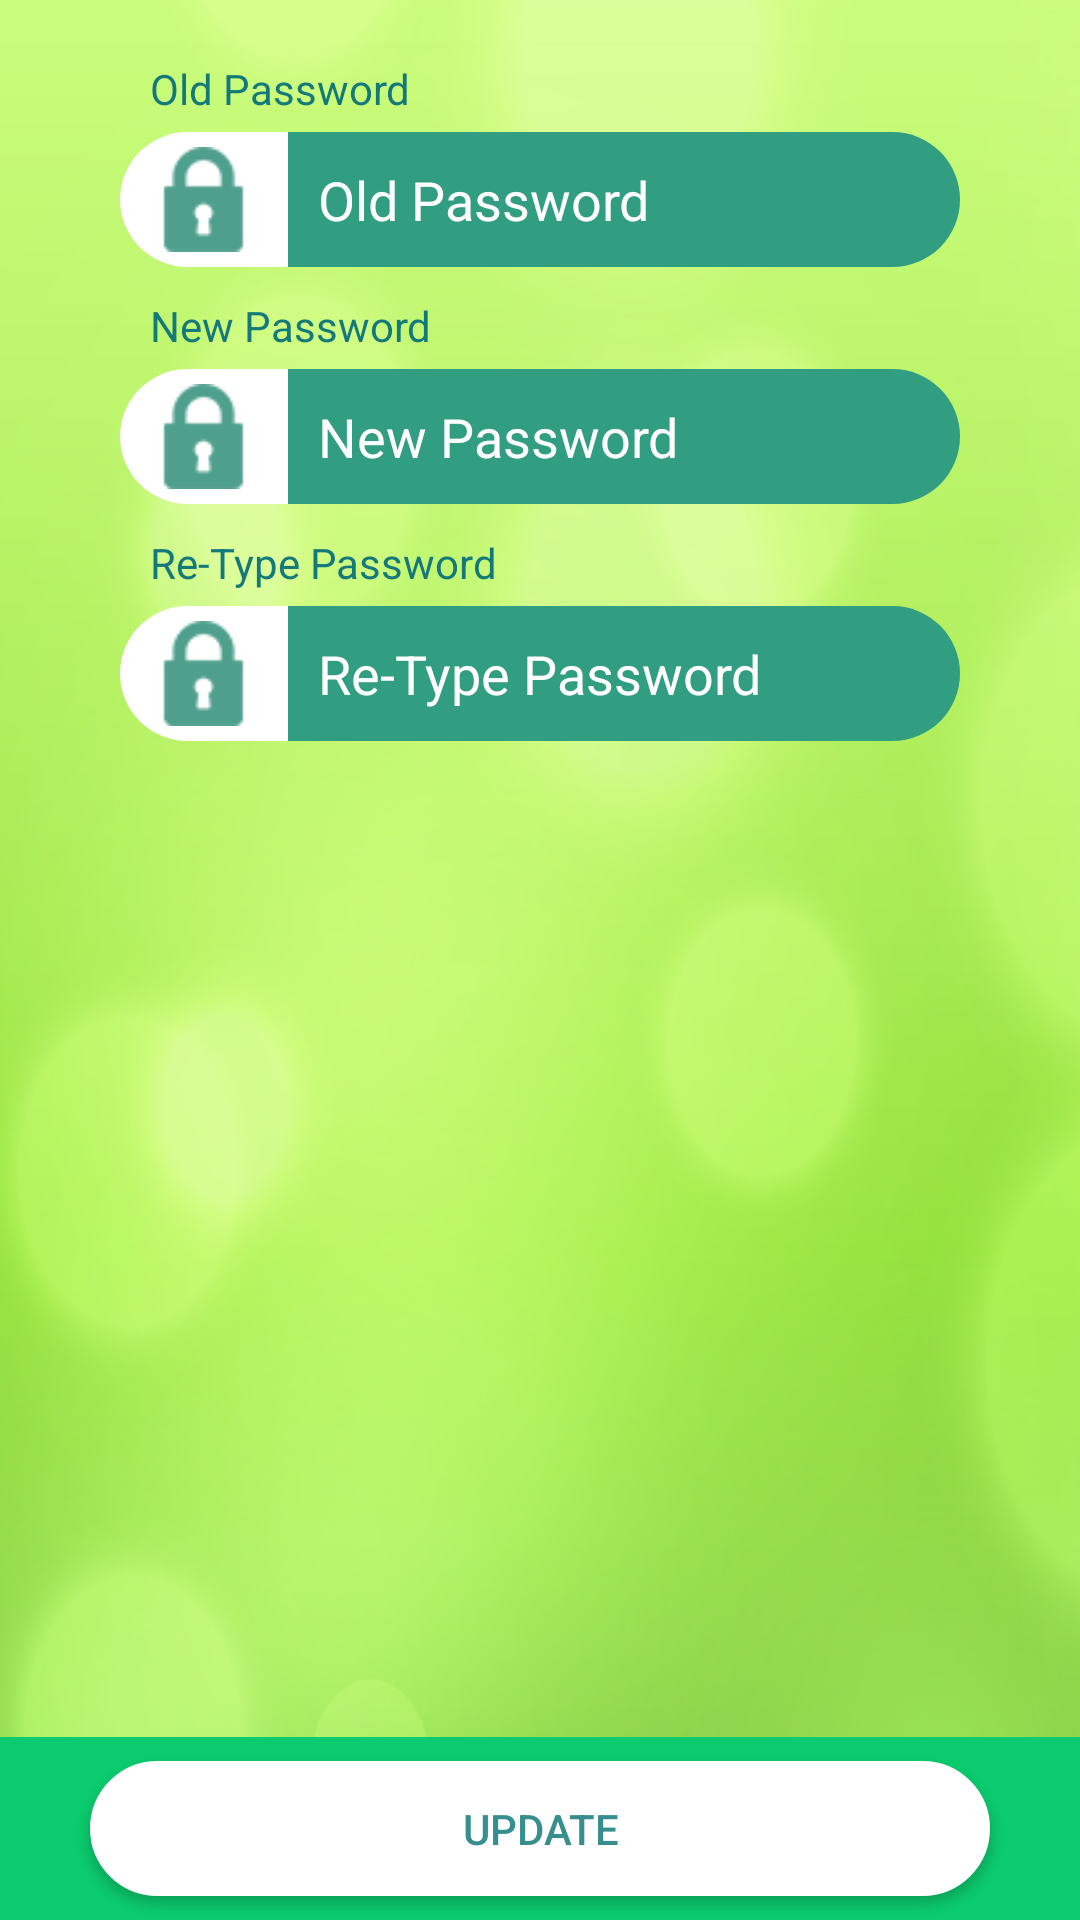

Named icons in this screenshot (1080*1920) and their bounding boxes, (x1, y1, x2, y2):
lock: (163, 147, 244, 252), (163, 384, 244, 489), (163, 621, 244, 726)
